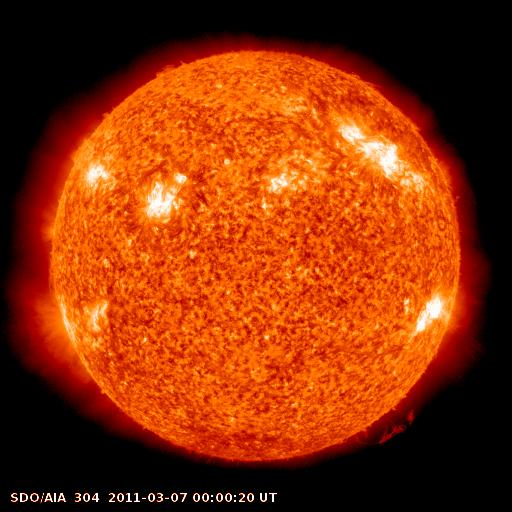prominence: (350, 387, 426, 451), (145, 52, 195, 91)
